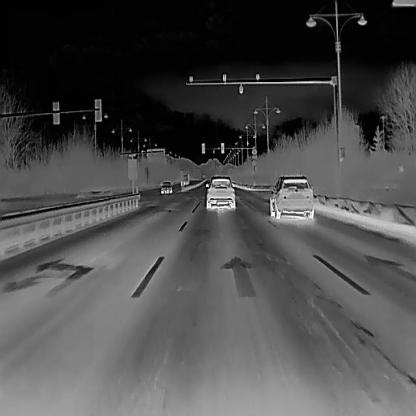car: (269, 173, 313, 219), (205, 175, 235, 209), (160, 182, 170, 194)
truck: (180, 174, 188, 184)
